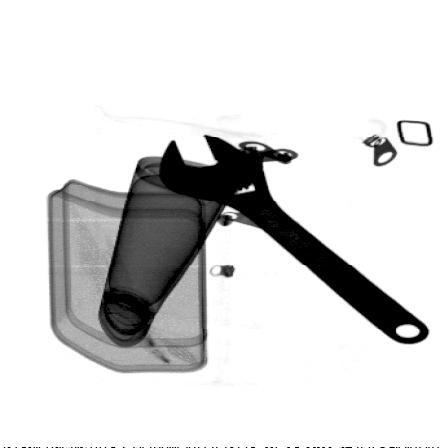Wrench: (155, 131, 431, 344)
